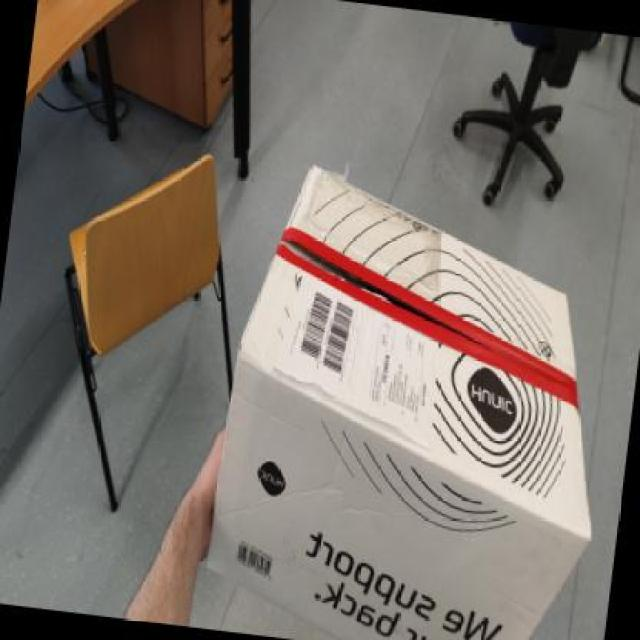box: (129, 132, 637, 640)
